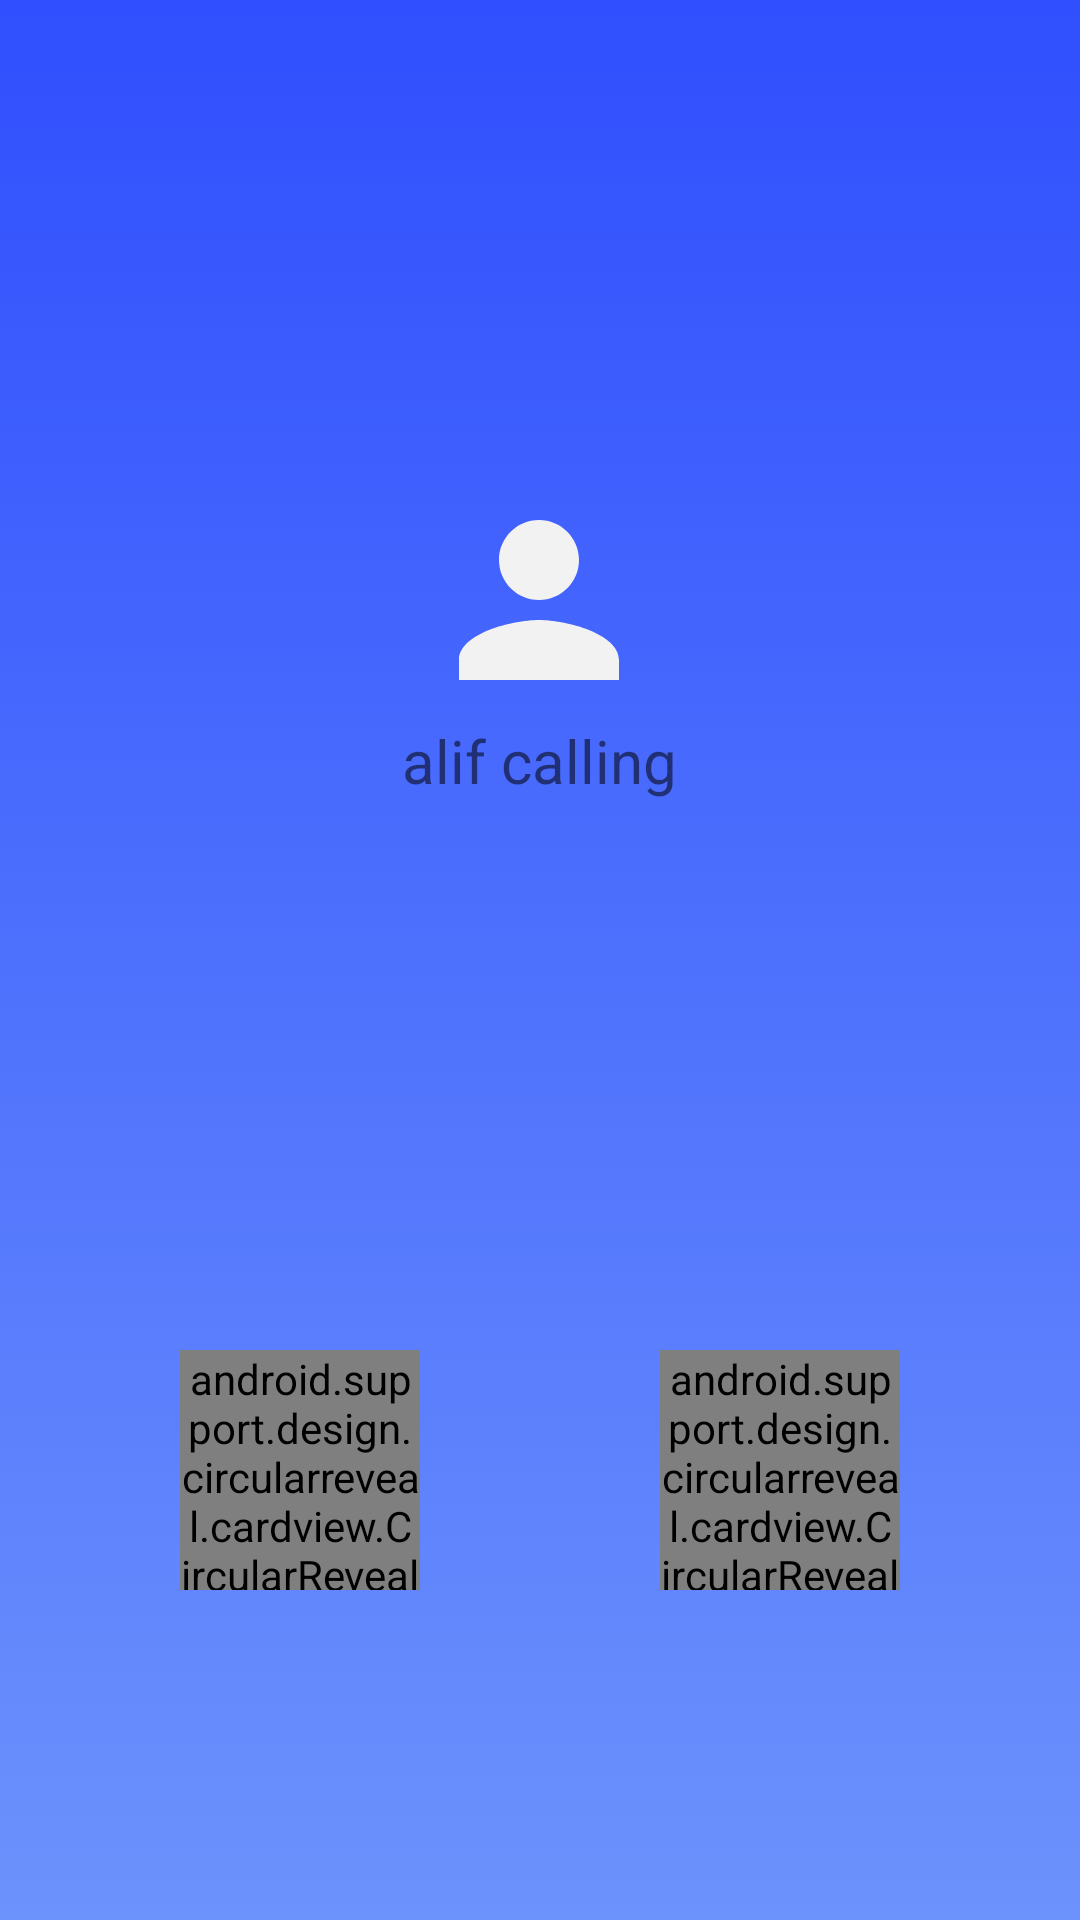

Icon click points for this 1080×1920 phone screenshot, format (x,y):
person cust: (539,600)
